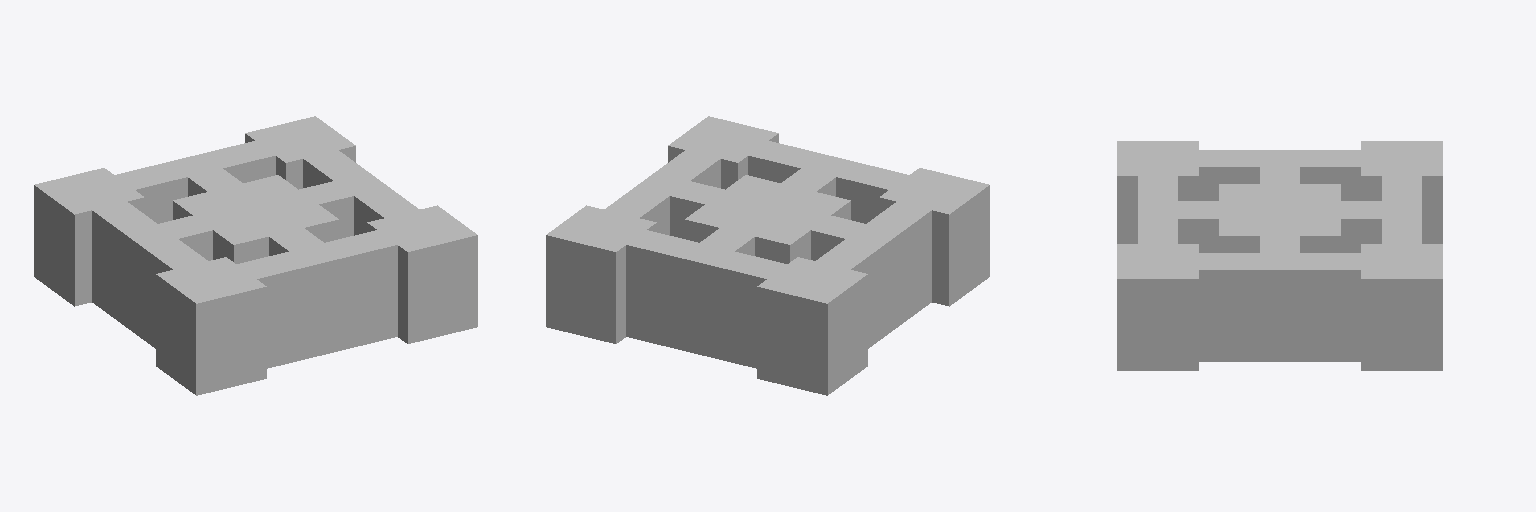
The model's file is castle.obj.
3 views of the same model, side by side, from view 1: azimuth 30°, elevation 25°; view 2: azimuth 150°, elevation 25°; view 3: azimuth 270°, elevation 25° (orthographic).
Visible parts, largest first — view 1: Plane_Plane.001; view 2: Plane_Plane.001; view 3: Plane_Plane.001.
Boxes of the visible parts, x1,y1,x2,y2 form: Plane_Plane.001: [34, 116, 477, 395]; Plane_Plane.001: [546, 116, 989, 395]; Plane_Plane.001: [1117, 141, 1442, 370].
Size of the model in its own units: 32 by 10 by 32.